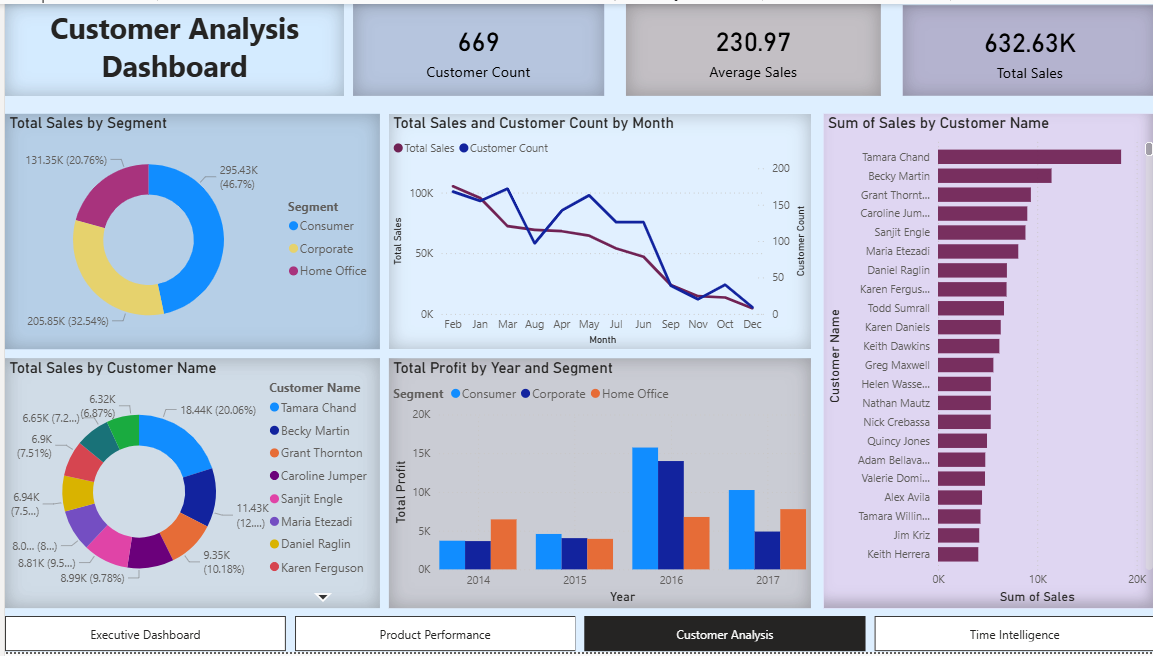

Layout of this report page (visuals, bound fields, positions):
{"tool":"powerbi","page":{"name":"Customer Analysis","canvas":[1280,720],"ordinal":2},"visuals":[{"type":"pageNavigator","box":[0,680,1280.7,39.7],"z":0},{"type":"card","fields":{"Values":["DateTable.Customer Count"]},"box":[386.8,0,279.1,102],"z":1000},{"type":"card","fields":{"Values":["DateTable.Average Sales"]},"box":[689.9,0,283.3,102],"z":2000},{"type":"card","fields":{"Values":["DateTable.Total Sales"]},"box":[997.3,1.4,283.3,100.6],"z":3000},{"type":"donutChart","fields":{"Category":["Sample - Superstore.Segment"],"Y":["DateTable.Total Sales"]},"box":[0,121.8,416.5,262.1],"z":4000},{"type":"clusteredColumnChart","fields":{"Y":["DateTable.Total Profit"],"Series":["Sample - Superstore.Segment"],"Category":["DateTable.Year"]},"box":[426.4,393.8,468.9,277.7],"z":5000},{"type":"clusteredBarChart","fields":{"Category":["Sample - Superstore.Customer Name"],"Y":["Sum(Sample - Superstore.Sales)"]},"box":[909.5,121.8,371.2,549.7],"z":6000},{"type":"lineChart","fields":{"Category":["DateTable.Month"],"Y":["DateTable.Total Sales"],"Y2":["DateTable.Customer Count"]},"box":[426.4,121.8,468.9,262.1],"z":7000},{"type":"donutChart","fields":{"Y":["DateTable.Total Sales"],"Category":["Sample - Superstore.Customer Name"]},"box":[0,393.8,416.5,277.7],"z":8000},{"type":"textbox","box":[0,0,376.8,102],"z":9000}]}

Visuals, with their boxes on the page's 1280x720 design canvas (x1, y1, x2, y2). These are canvas units, not pixel positions in the 1153x656 screenshot, which may show the page scaled, cropped or inside an application window:
pageNavigator: bbox=[0, 680, 1281, 720]
card - DateTable.Customer Count: bbox=[387, 0, 666, 102]
card - DateTable.Average Sales: bbox=[690, 0, 973, 102]
card - DateTable.Total Sales: bbox=[997, 1, 1281, 102]
donutChart - Sample - Superstore.Segment x DateTable.Total Sales: bbox=[0, 122, 416, 384]
clusteredColumnChart - DateTable.Total Profit x Sample - Superstore.Segment: bbox=[426, 394, 895, 672]
clusteredBarChart - Sample - Superstore.Customer Name x Sum(Sample - Superstore.Sales): bbox=[910, 122, 1281, 672]
lineChart - DateTable.Month x DateTable.Total Sales: bbox=[426, 122, 895, 384]
donutChart - DateTable.Total Sales x Sample - Superstore.Customer Name: bbox=[0, 394, 416, 672]
textbox: bbox=[0, 0, 377, 102]
